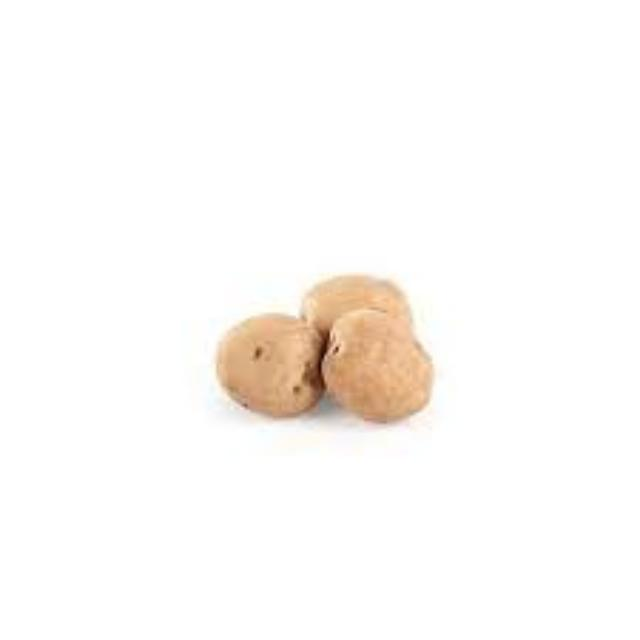Potato: (324, 308, 438, 428), (214, 312, 326, 428), (303, 272, 423, 368)
